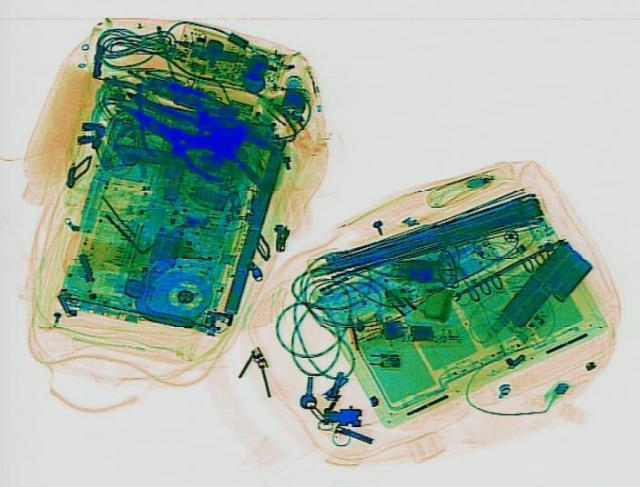Pliers: (102, 90, 250, 187)
